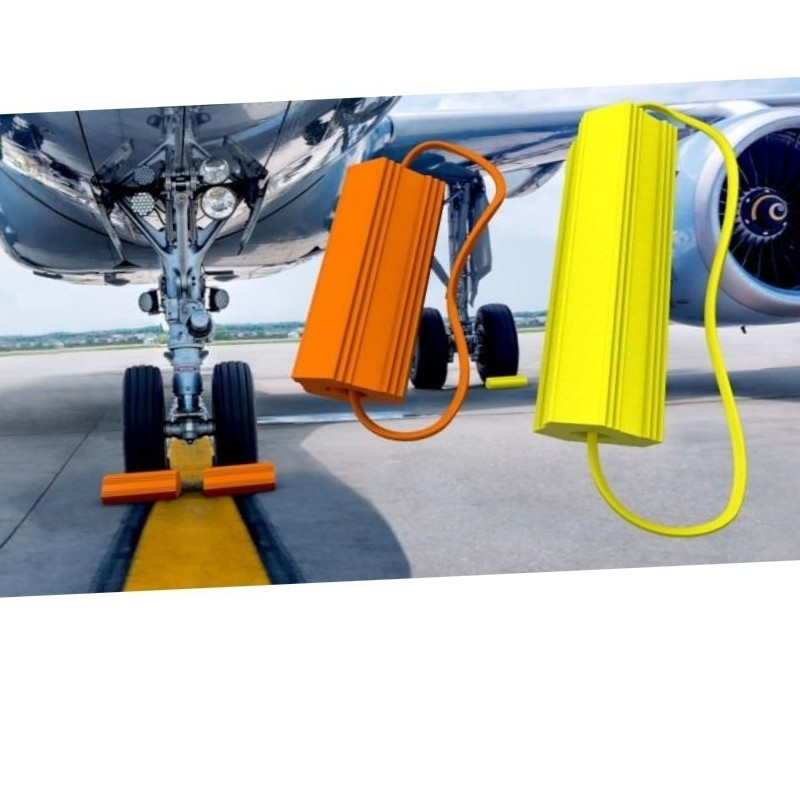chock: (519, 102, 696, 459), (276, 156, 459, 413), (96, 465, 186, 507), (198, 461, 280, 496), (483, 372, 530, 391)
wheel: (118, 364, 168, 473), (209, 360, 259, 467), (471, 299, 519, 383), (405, 304, 450, 388)
